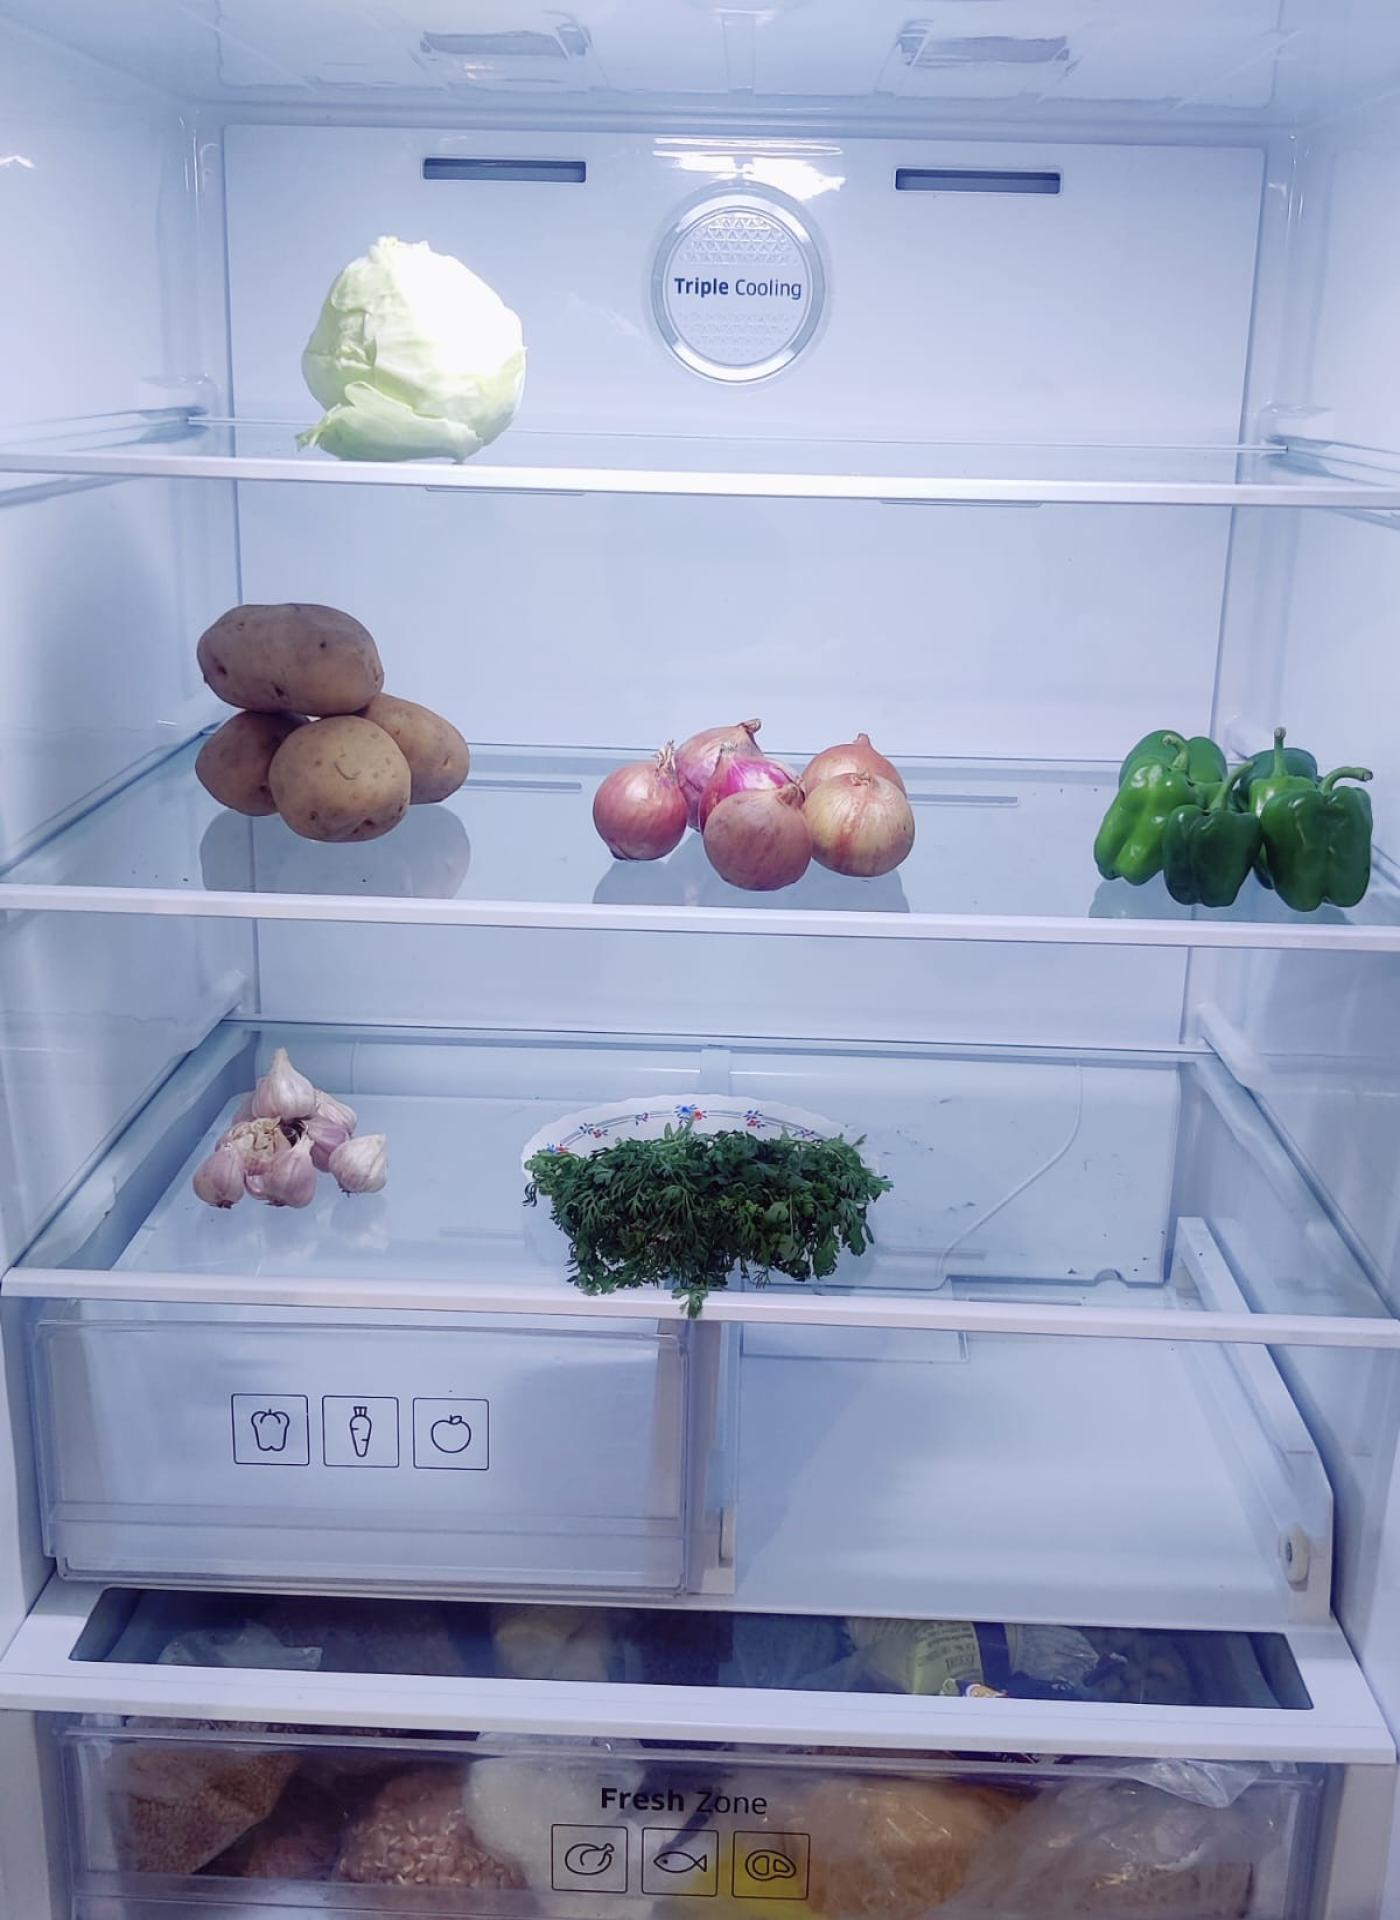cabbage: (309, 239, 532, 465)
capsicum: (1090, 726, 1376, 911)
coriander: (531, 1130, 881, 1297)
garlic: (195, 1043, 388, 1210)
onion: (590, 719, 915, 888)
potato: (195, 602, 471, 845)
